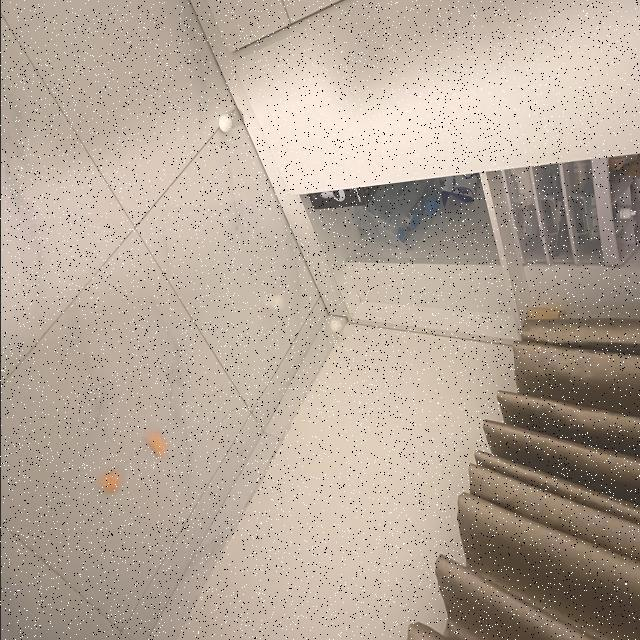ping-pong-ball: (262, 290, 288, 316), (144, 437, 168, 461), (99, 470, 121, 492), (327, 314, 345, 338), (216, 112, 236, 132)
